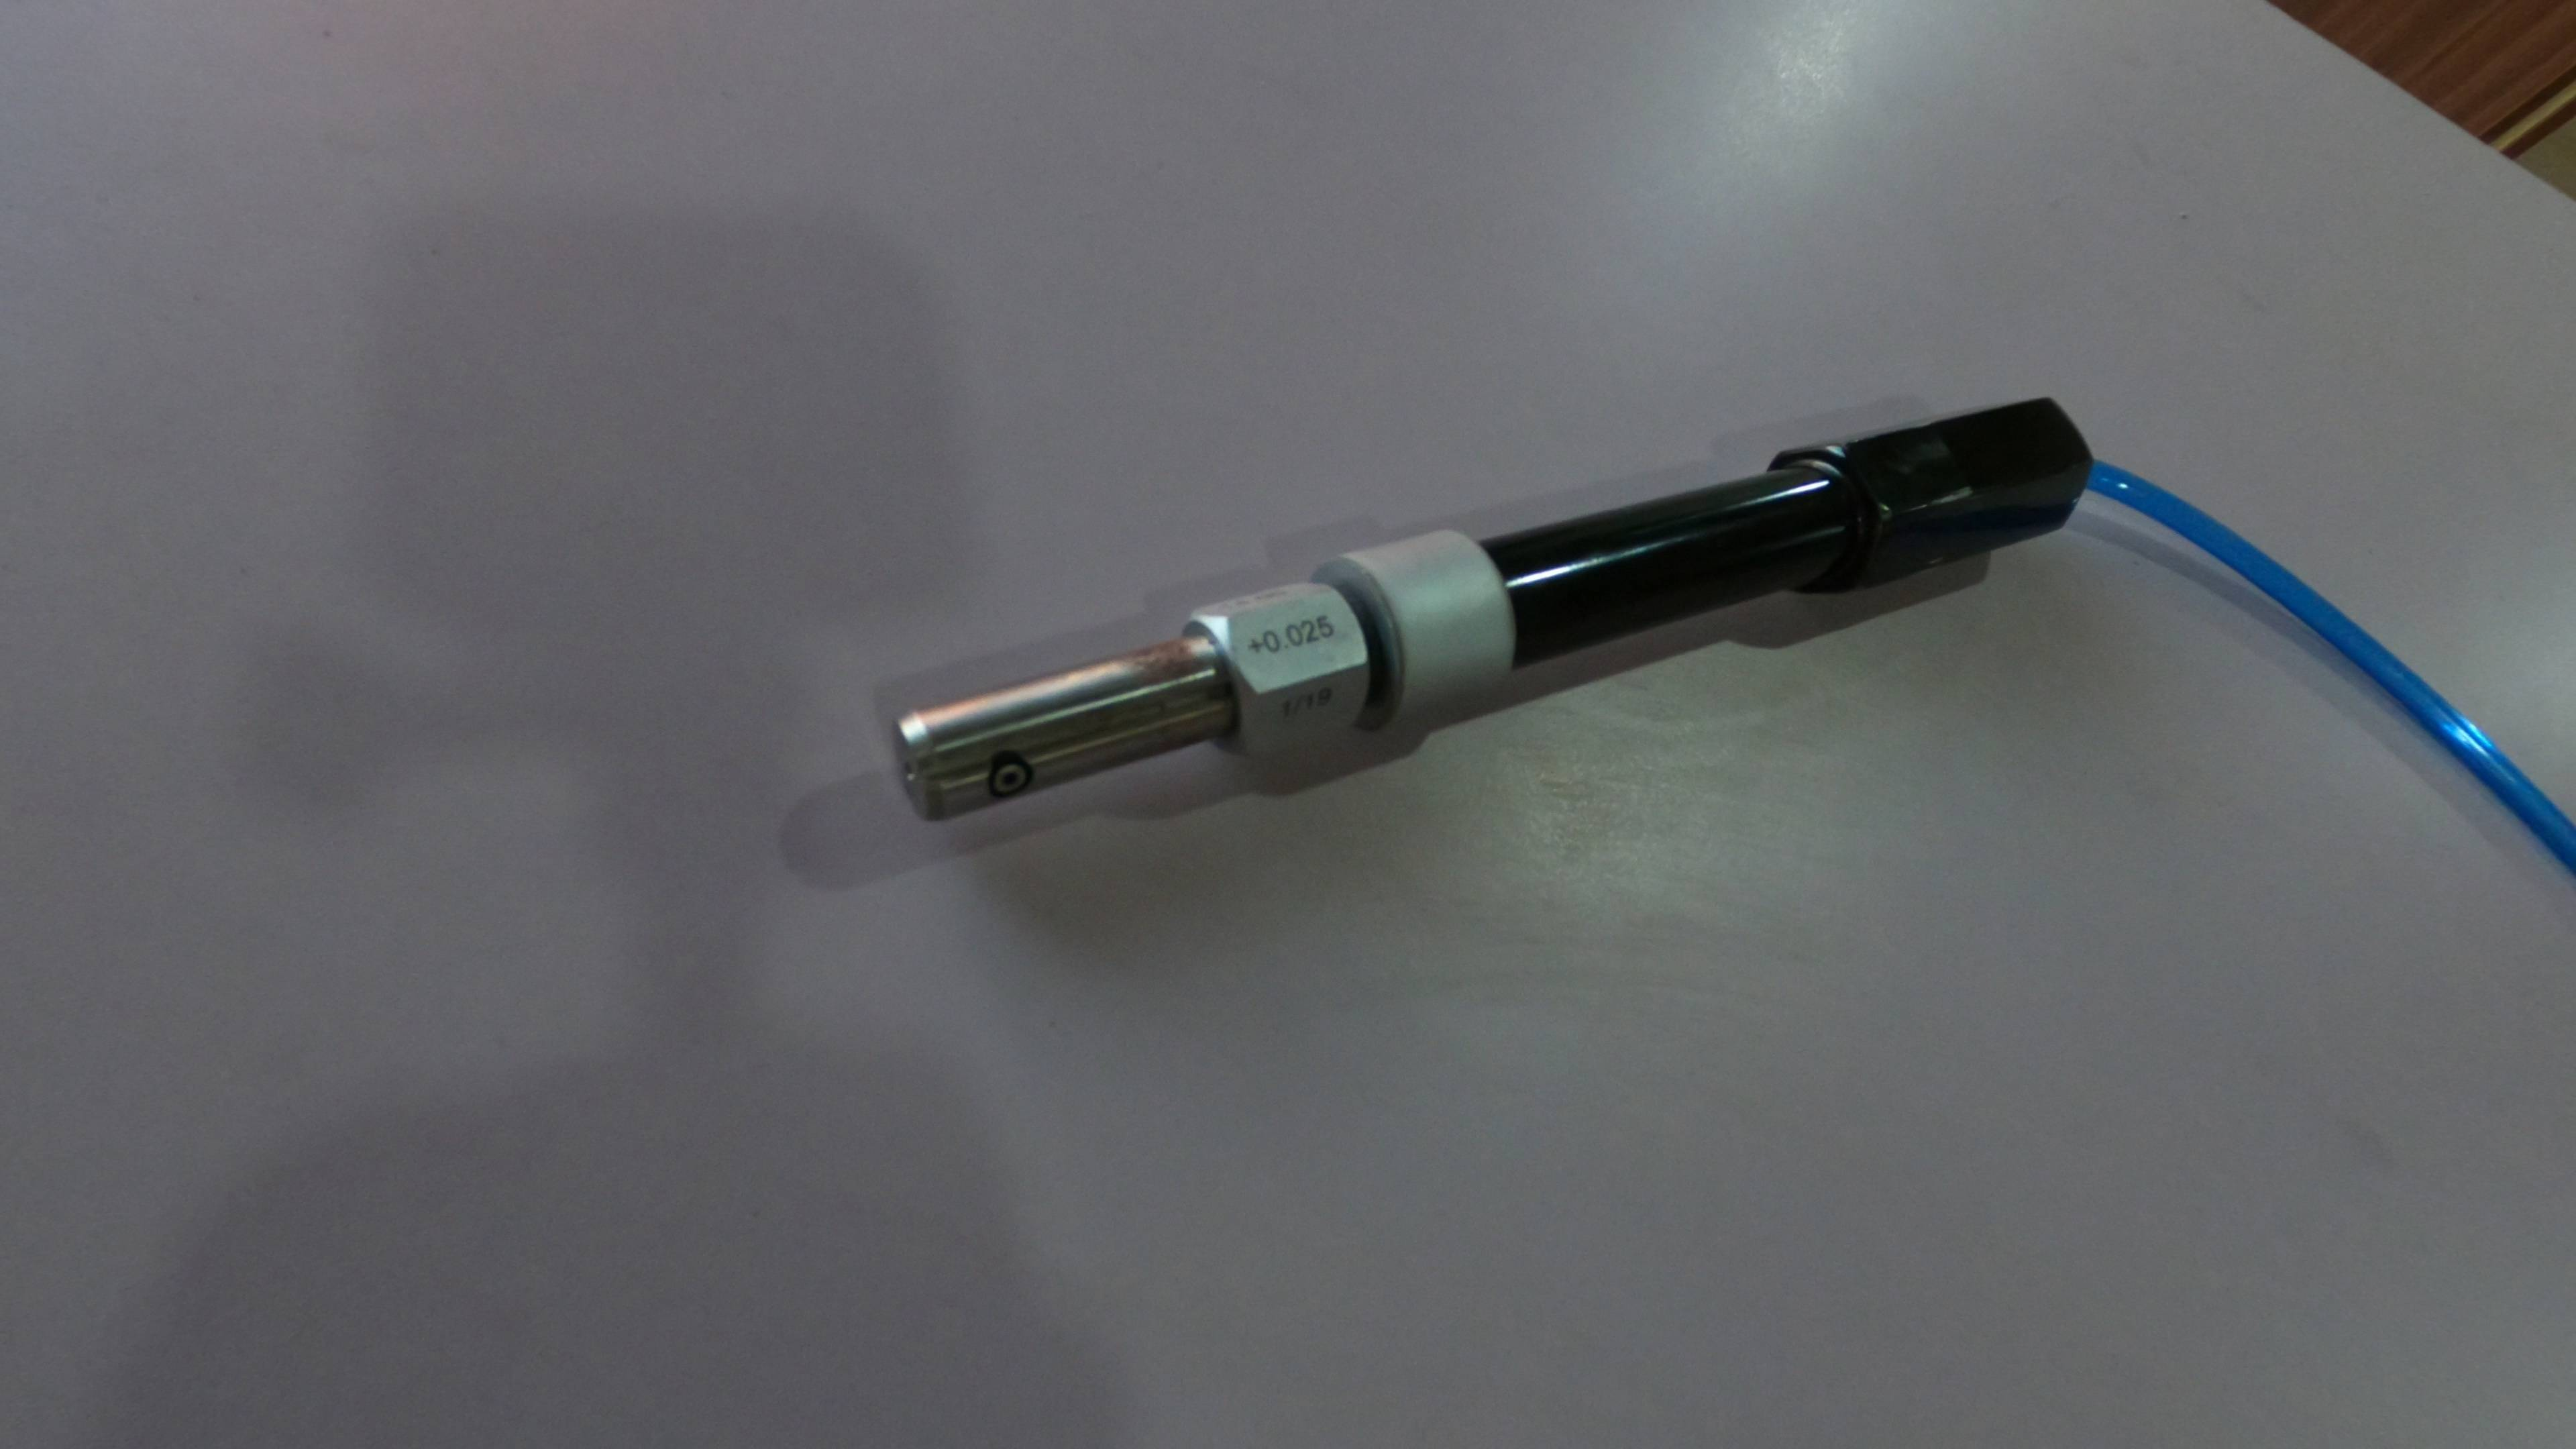air_gauge: (879, 387, 2102, 1026)
